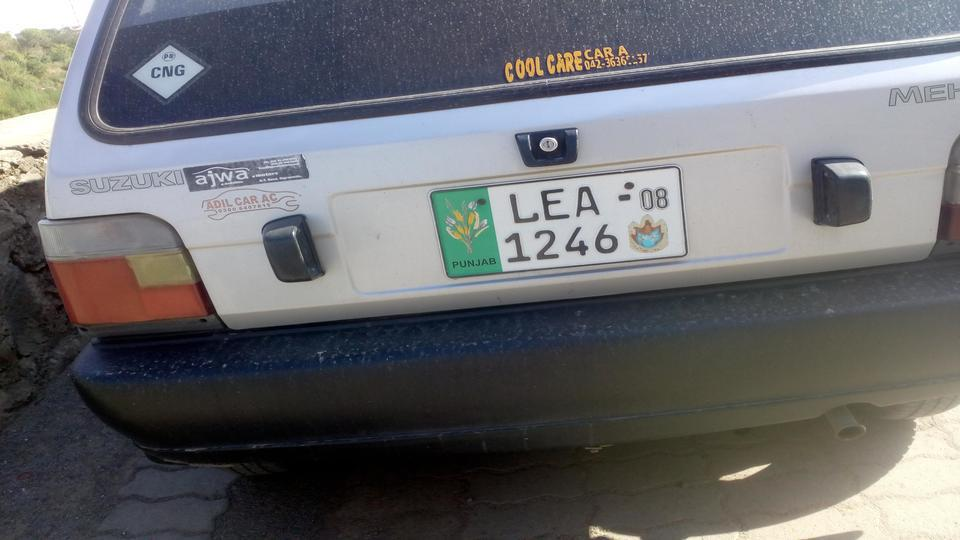NumberPlate: (425, 184, 700, 275)
